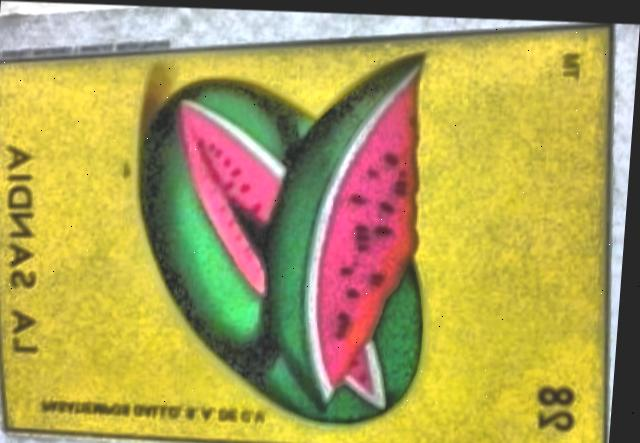La Sandia: (0, 20, 610, 443)
